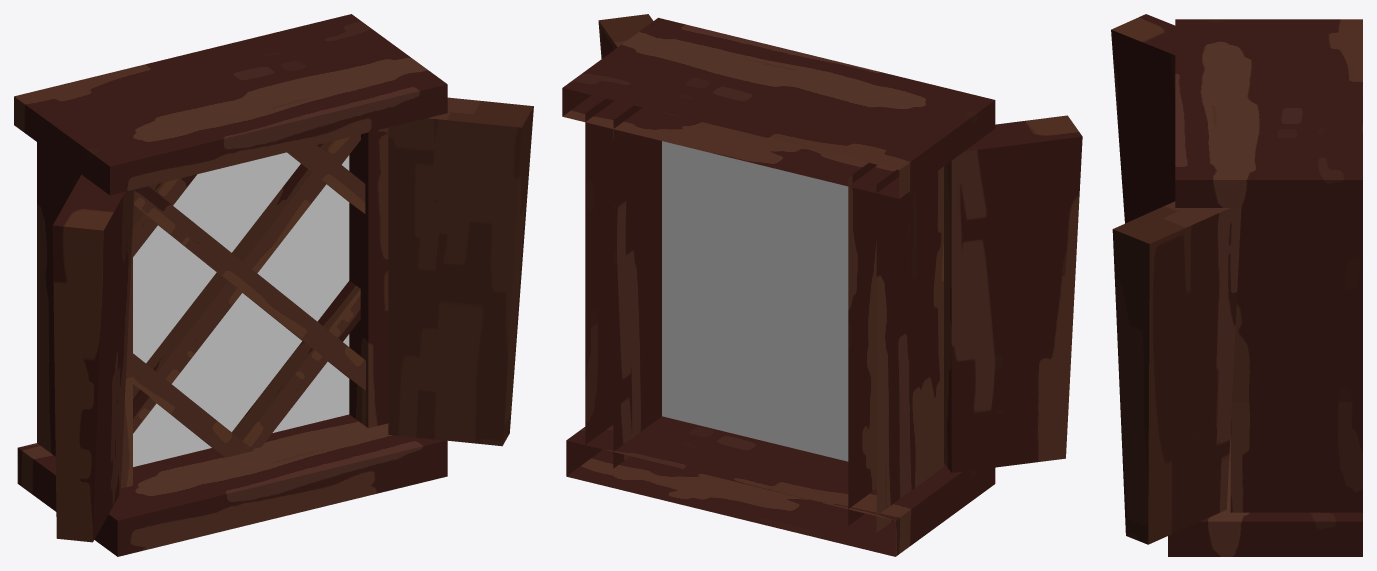
File: SM_BLD_window_v08_01.fbx
3 views of the same model, side by side, from view 1: azimuth 30°, elevation 25°; view 2: azimuth 150°, elevation 25°; view 3: azimuth 270°, elevation 25° (orthographic). The views are drawn at different scales.
Visible parts, largest first — view 1: SM_BLD_window_v08_01; view 2: SM_BLD_window_v08_01; view 3: SM_BLD_window_v08_01.
Part boxes in pixels (x1,y1,x2,y2): SM_BLD_window_v08_01: [14, 14, 533, 556]; SM_BLD_window_v08_01: [562, 14, 1082, 556]; SM_BLD_window_v08_01: [1111, 14, 1362, 556].
Bounding box in the file's own units: 113 × 86.65 × 52.22.
